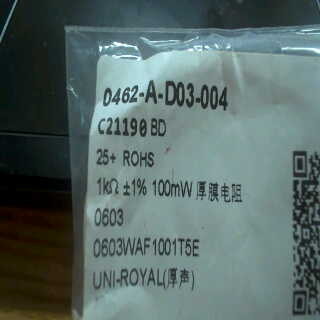1kR: (92, 175, 123, 196)
